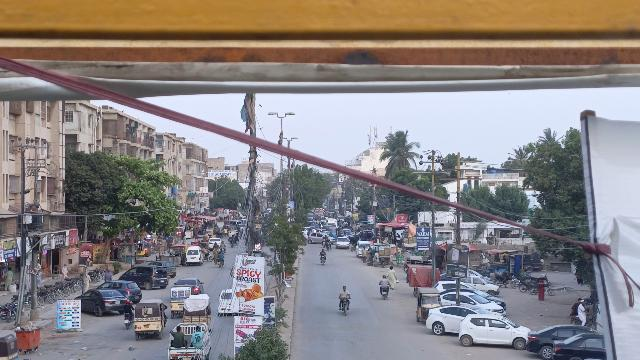Bike: (338, 295, 351, 317), (378, 287, 391, 302), (124, 312, 132, 329), (319, 253, 327, 266)
Car: (456, 312, 531, 349), (526, 324, 592, 358), (422, 304, 484, 335), (550, 330, 604, 360), (73, 287, 127, 316), (119, 265, 169, 289), (100, 279, 142, 301), (216, 289, 236, 316)
Person: (387, 265, 399, 291), (338, 285, 351, 300), (123, 299, 134, 313), (379, 273, 389, 287), (319, 247, 327, 256)
Rickshaw: (134, 299, 167, 342), (415, 286, 441, 323), (183, 295, 212, 325), (169, 287, 192, 319)
Suzuki: (167, 321, 212, 360)
Van: (186, 246, 203, 267)
